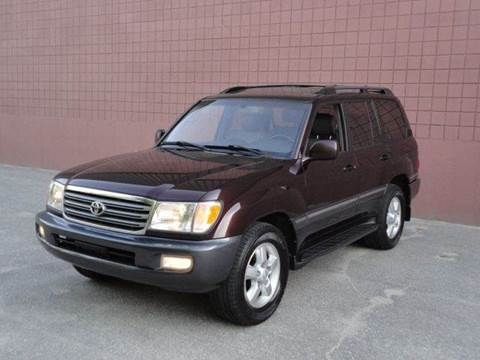car: (33, 86, 421, 326)
